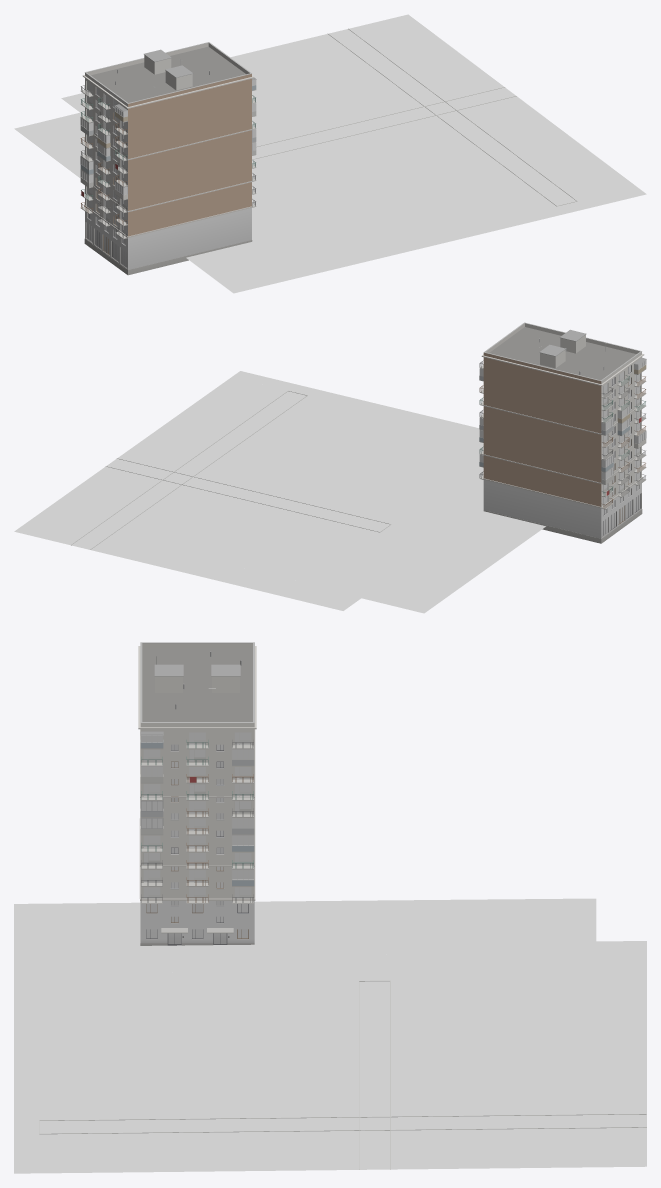
Rendered from chunk_3_5.glb.
The picture shows the model from 3 angles, top to bottom: view 1: azimuth 30°, elevation 25°; view 2: azimuth 150°, elevation 25°; view 3: azimuth 270°, elevation 25°; orthographic projection. The views are drawn at different scales.
Visible parts, largest first — view 1: base, detail; view 2: base, detail; view 3: base, detail.
Part boxes in pixels (x1,y1,x2,y2): base: (14,14,646,293); detail: (80,59,255,267); base: (14,322,646,613); detail: (479,338,646,536); base: (14,642,646,1173); detail: (140,651,254,945).
Size of what is drawn, in the model's own units: 115 by 41.8 by 100.
